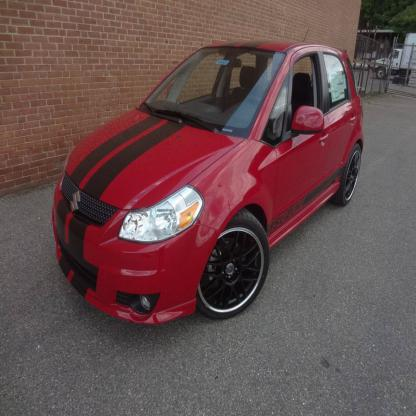Vehicle: (51, 39, 366, 328)
